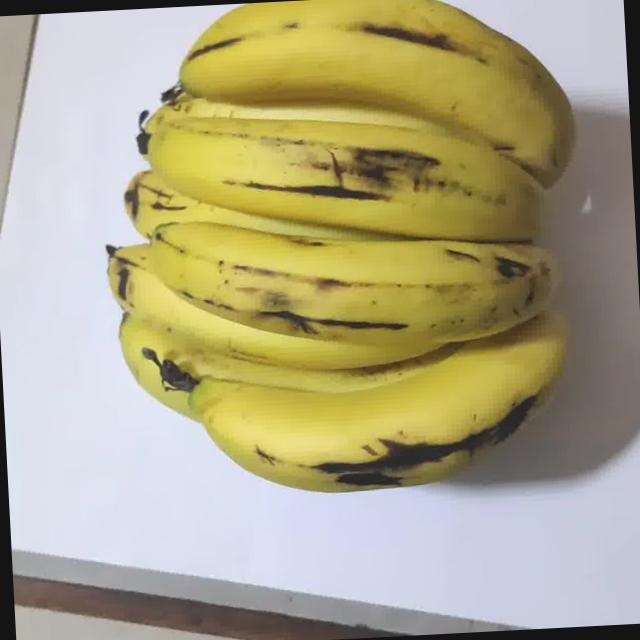banana_pacche: (3, 0, 633, 623)
